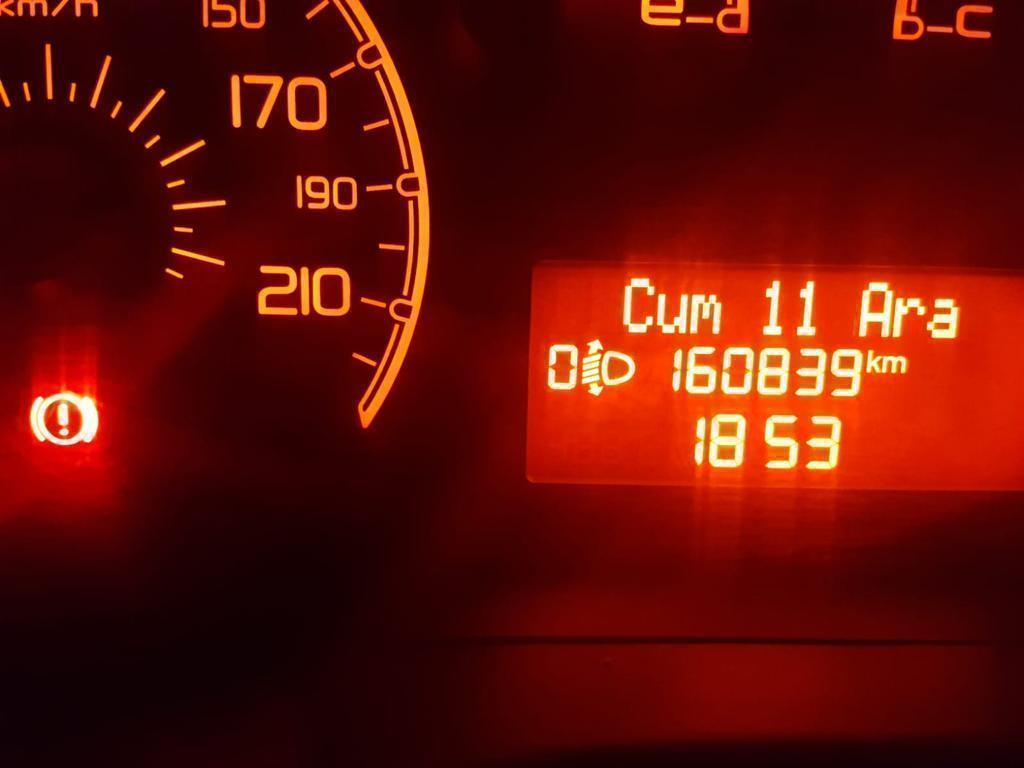0: (719, 344, 755, 396), (545, 341, 579, 392)
1: (758, 276, 786, 338), (793, 275, 819, 339), (688, 413, 708, 468), (666, 345, 682, 395)
3: (804, 412, 842, 472), (792, 345, 826, 398)
5: (760, 411, 800, 471)
6: (684, 344, 719, 397)
8: (707, 410, 748, 471), (757, 345, 790, 397)
9: (829, 346, 863, 398)
X: (619, 274, 655, 336), (856, 278, 892, 339), (688, 290, 724, 337), (926, 295, 961, 341), (656, 290, 688, 337), (893, 295, 925, 338), (883, 352, 906, 376), (865, 344, 882, 375)
odometer: (519, 253, 1024, 495)
